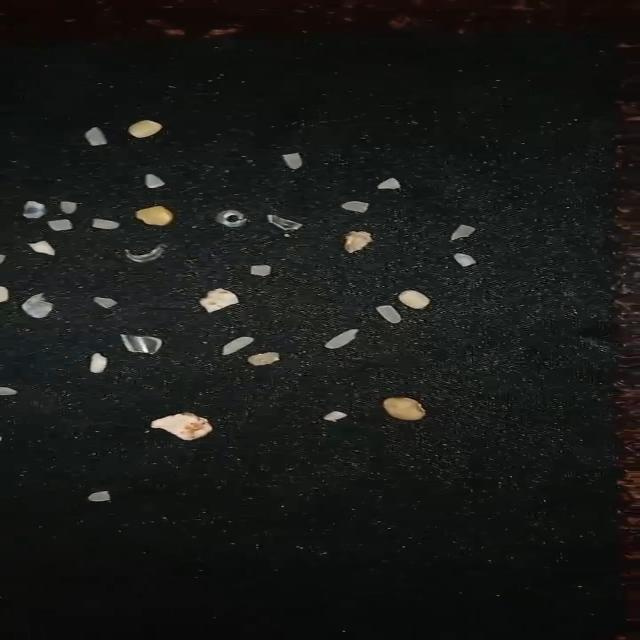Broken: (124, 244, 167, 262), (376, 306, 401, 324), (28, 241, 56, 256), (86, 128, 108, 146), (451, 225, 475, 240), (92, 218, 120, 230), (342, 201, 369, 213), (282, 153, 302, 169), (454, 253, 476, 267), (48, 219, 72, 231), (145, 174, 165, 188), (94, 297, 118, 308), (378, 178, 400, 189), (250, 265, 272, 276), (324, 411, 348, 421), (89, 492, 110, 502), (61, 201, 76, 214), (0, 387, 17, 395)
Full: (325, 329, 359, 349), (222, 337, 254, 355), (90, 353, 107, 373)
